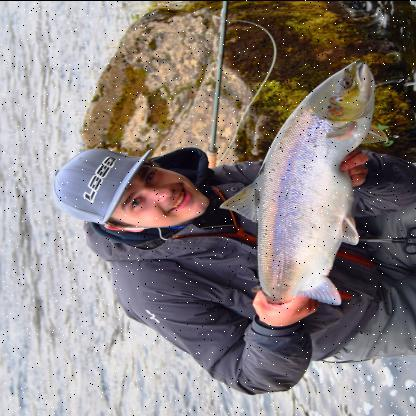fish: (219, 58, 389, 326)
